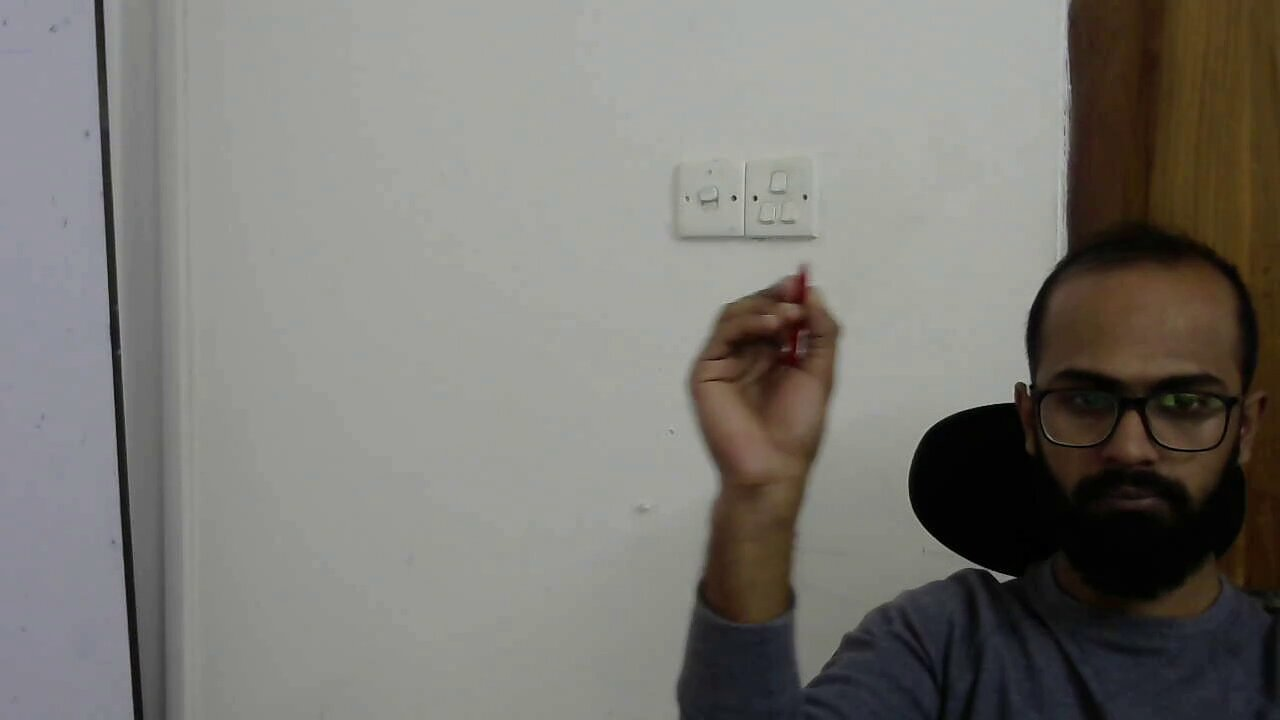pointer: (702, 270, 844, 410)
